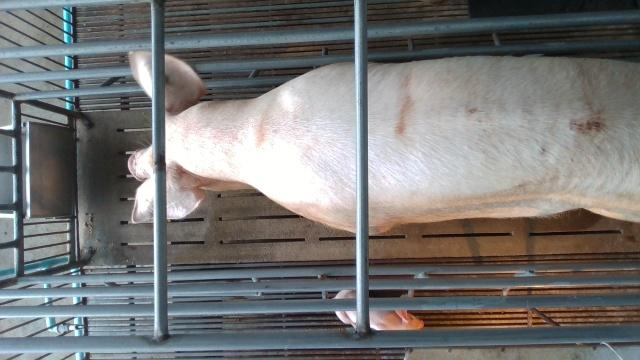piglet: (335, 289, 424, 331)
sow-stand: (128, 50, 640, 236)
